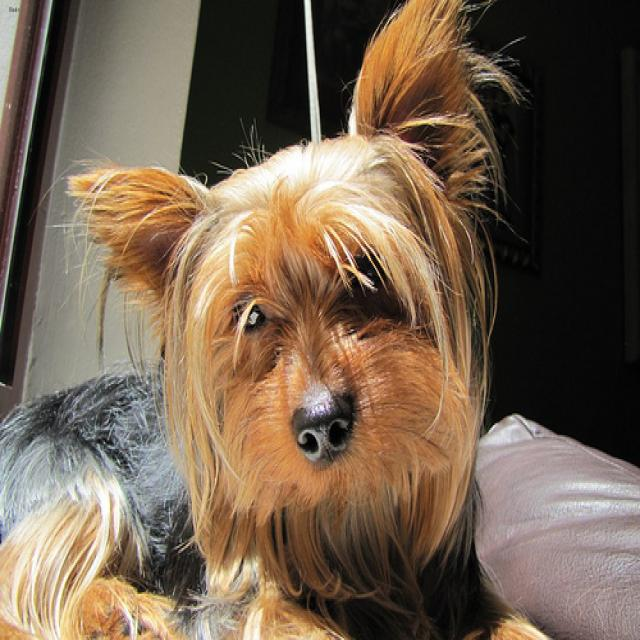dog-yorkshire_terrier: (1, 2, 564, 637)
